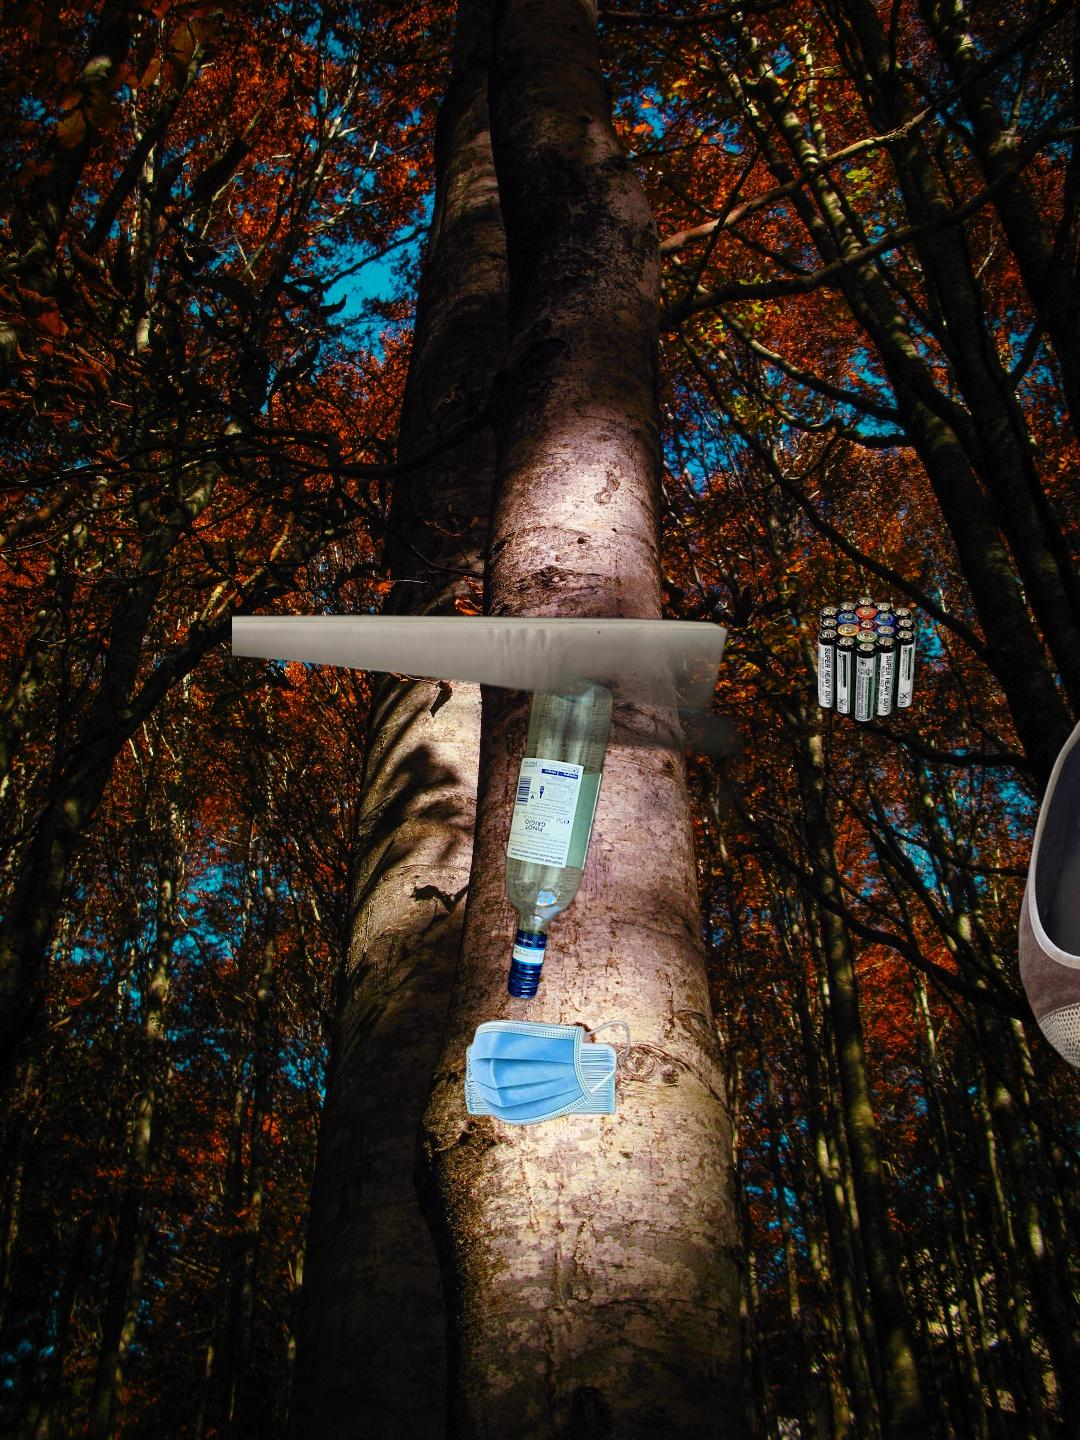battery: (815, 595, 917, 725)
glass: (500, 668, 618, 1006)
paper: (233, 608, 744, 820)
shoes: (1014, 705, 1080, 1082)
trash: (461, 1006, 633, 1129)
